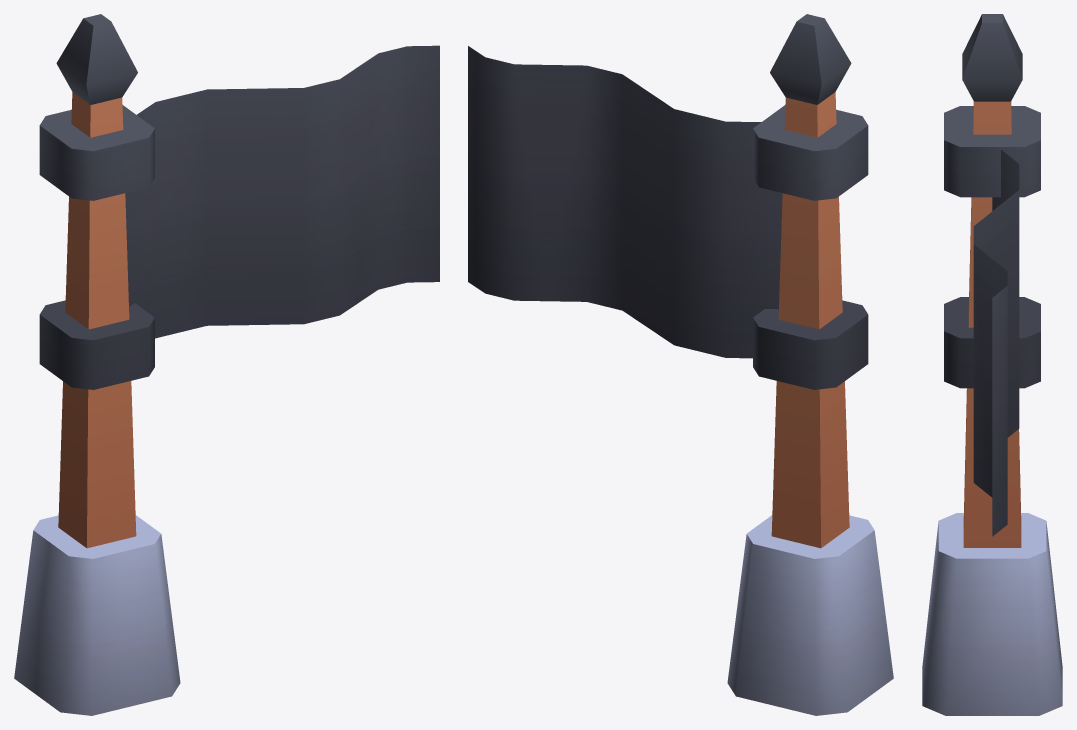
File: kenney-pirate-flag-pirate.glb
3 renders of one model, left to right at view 1: azimuth 30°, elevation 25°; view 2: azimuth 150°, elevation 25°; view 3: azimuth 270°, elevation 25°, orthographic.
Visible parts, largest first — view 1: flag-pirate; view 2: flag-pirate; view 3: flag-pirate.
Boxes of the visible parts, x1,y1,x2,y2 form: flag-pirate: [14, 14, 439, 715]; flag-pirate: [468, 14, 893, 715]; flag-pirate: [922, 14, 1062, 715].
Size of the model in its own units: 1.34 by 2.1 by 0.3988.
Materials: 1 (1 with a texture image).
